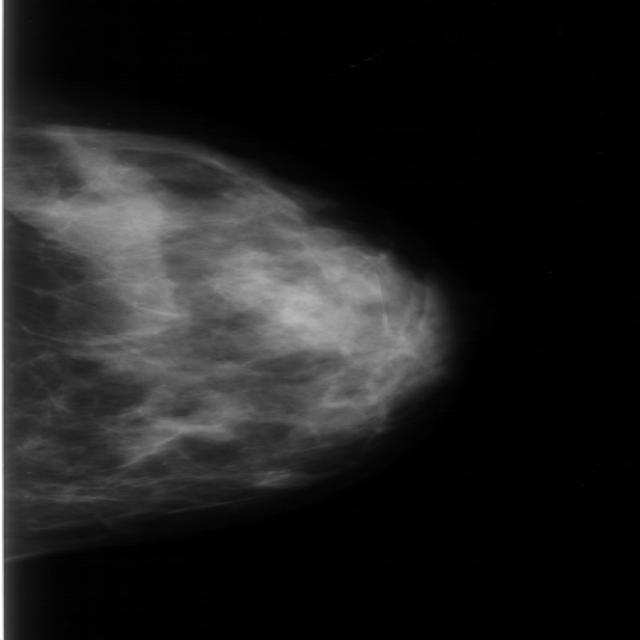tumour: (240, 466, 289, 490)
